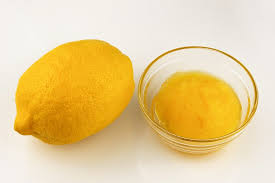lemon: (10, 29, 145, 150)
